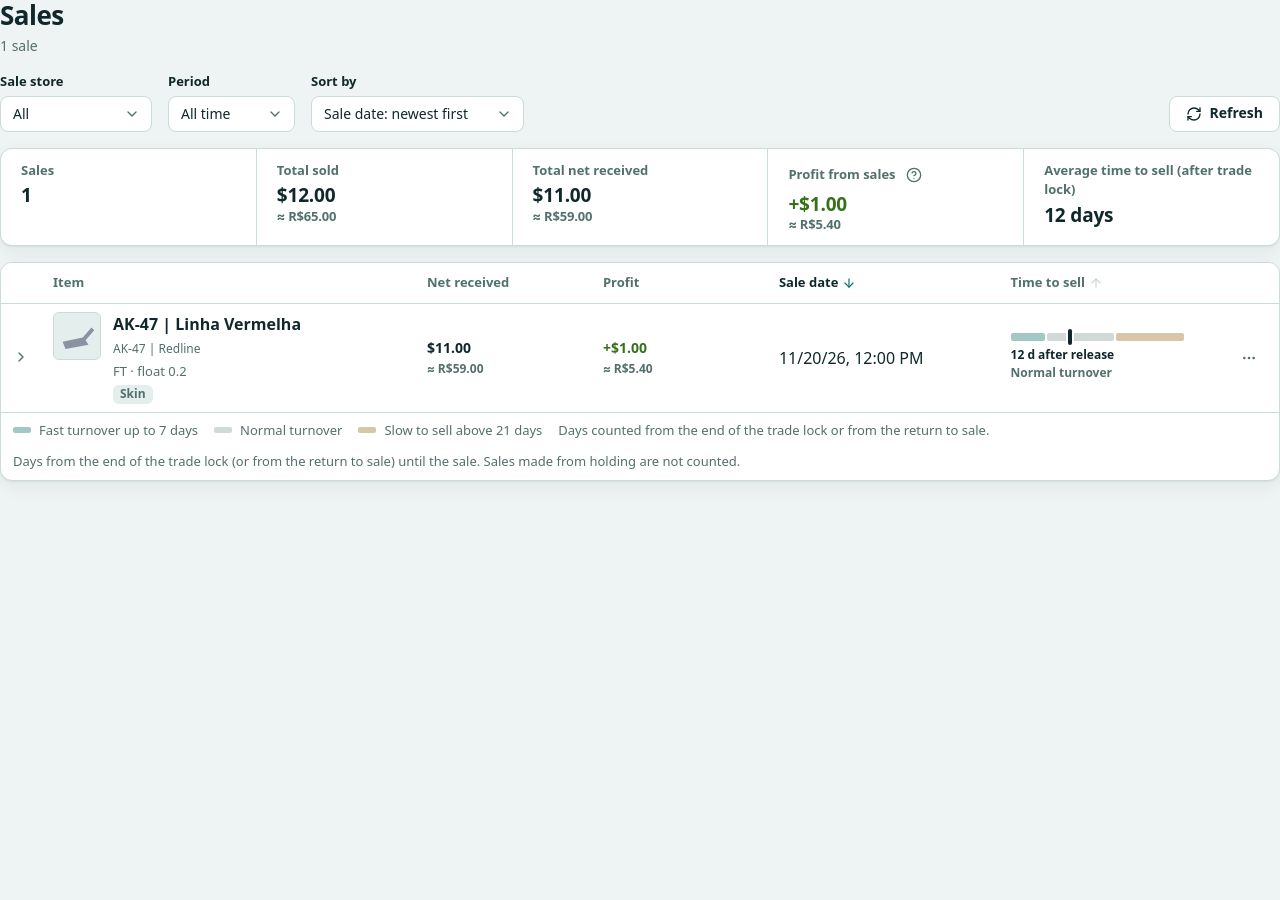
página Vendas › desfazer venda pelo menu abre o diálogo com o efeito no saldo da loja
Expected: the text "AK-47 | Linha Vermelha" is shown, [113,312,301,336]
Click the button named "More actions".
click(1249, 358)  # box [1231,340,1267,376]
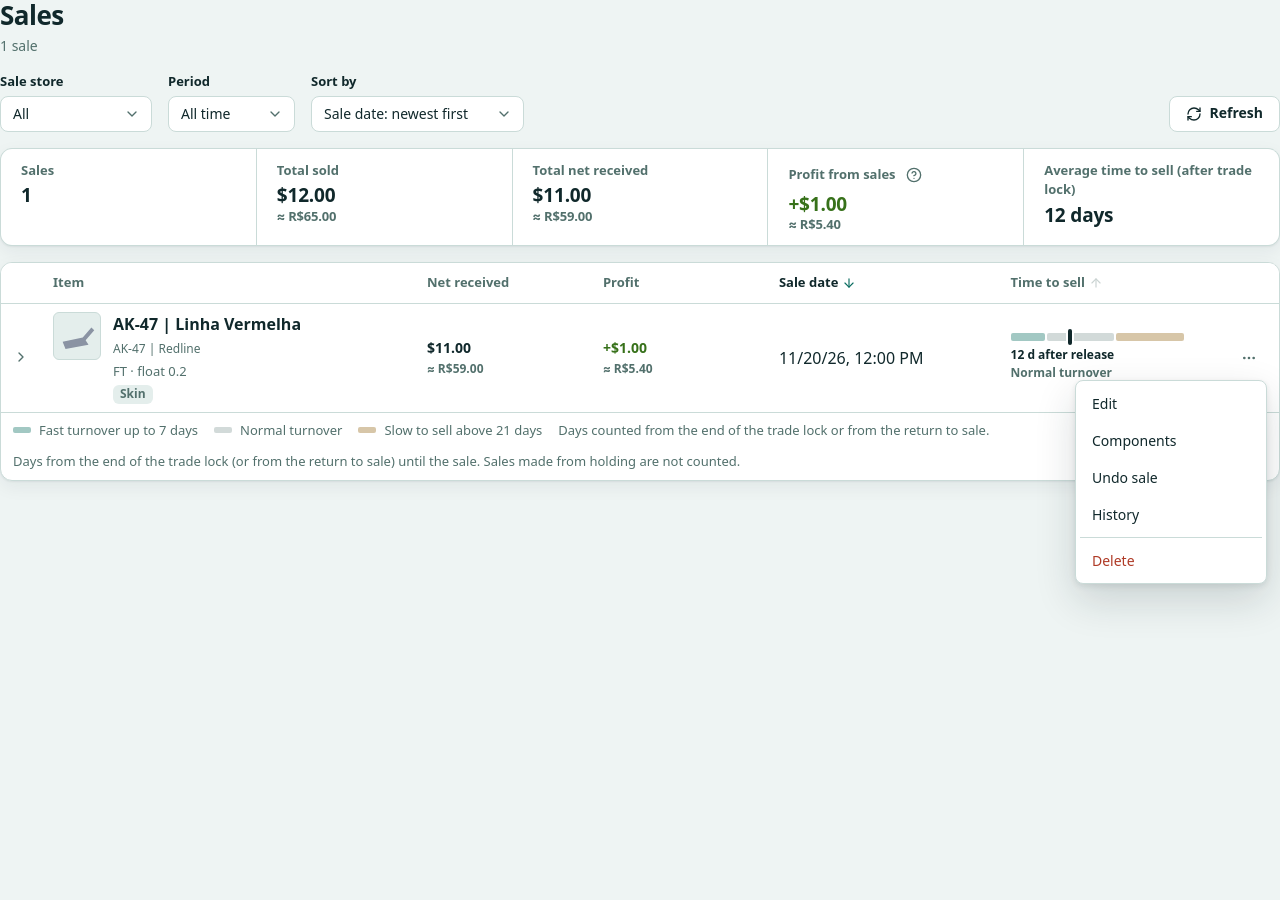
Click the menu item "Undo sale".
click(1125, 478)  # box [1092,468,1158,487]
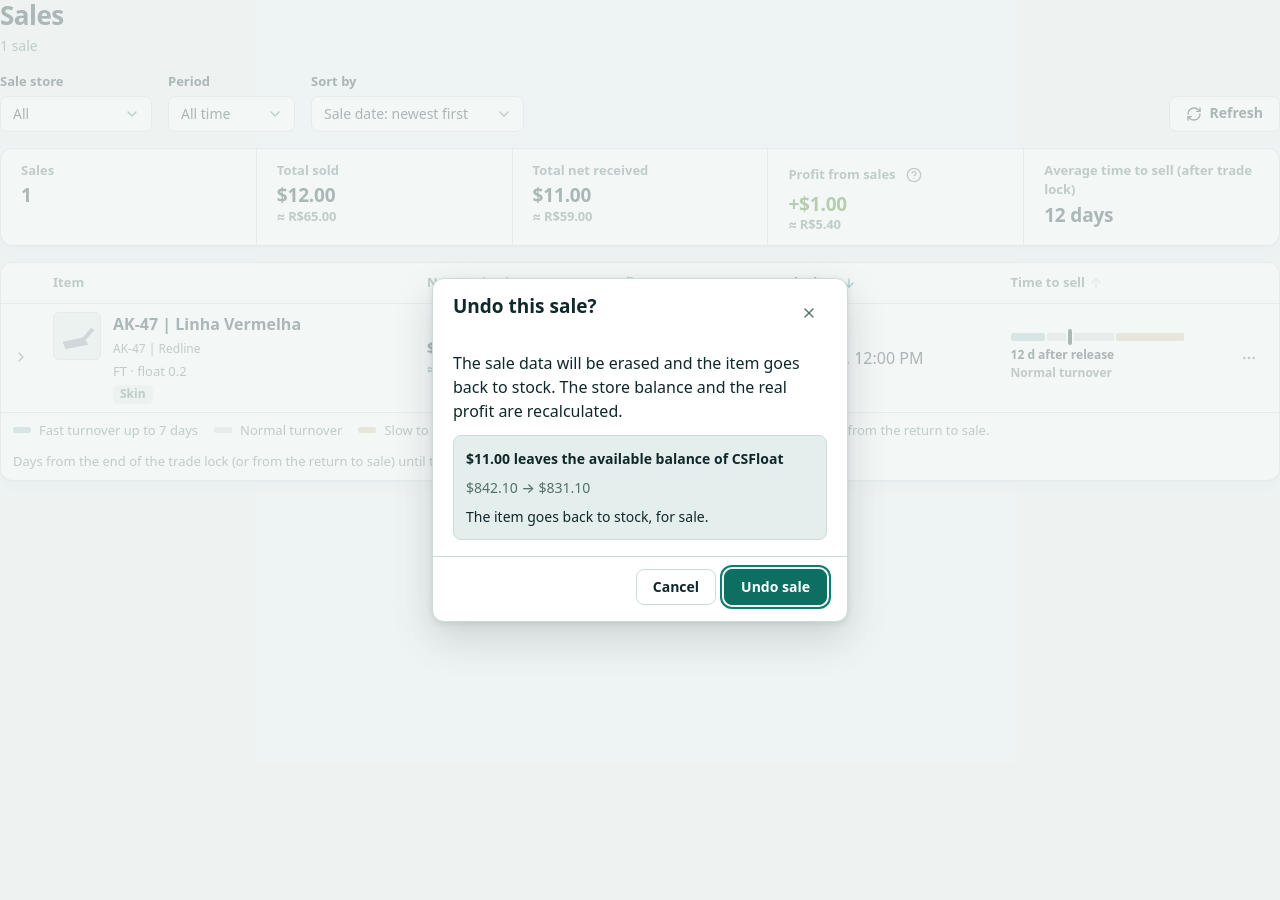
Result: the text "$11.00 leaves the available balance of CSFloat" is shown at [466,449,784,468]
